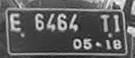4: (69, 12, 80, 32), (46, 12, 56, 32)
6: (33, 12, 46, 32), (56, 12, 68, 32)
E: (9, 11, 24, 32)
I: (112, 14, 122, 32)
T: (98, 12, 112, 32)
